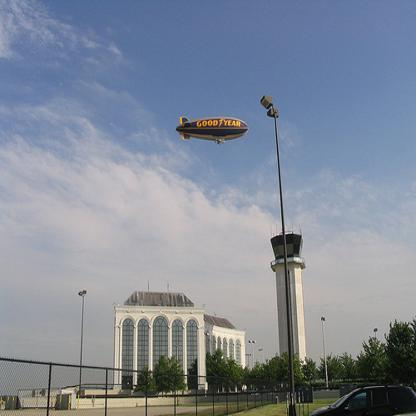Airship: (176, 112, 251, 153)
